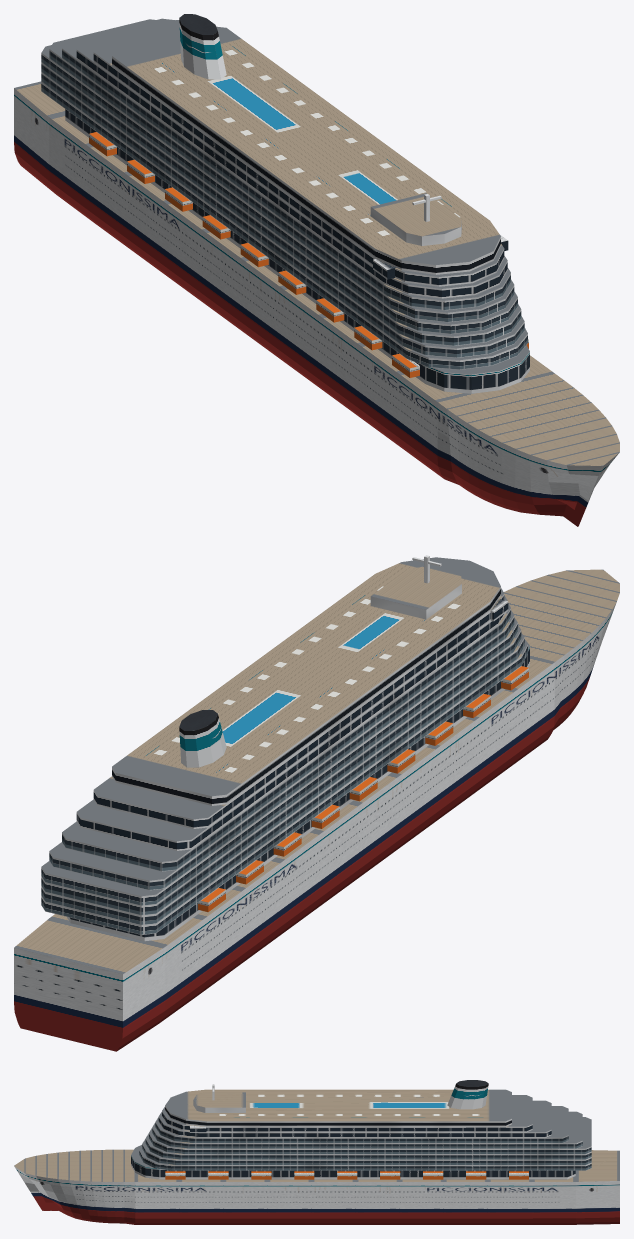
File: SM_MoloItalia_NaveCrociera_v2_LOD1.fbx
The picture shows the model from 3 angles, top to bottom: view 1: azimuth 30°, elevation 25°; view 2: azimuth 150°, elevation 25°; view 3: azimuth 270°, elevation 25°; orthographic projection. The views are drawn at different scales.
Visible parts, largest first — view 1: SM_MoloItalia_NaveCrociera_v2_LOD1; view 2: SM_MoloItalia_NaveCrociera_v2_LOD1; view 3: SM_MoloItalia_NaveCrociera_v2_LOD1.
Boxes of the visible parts, x1,y1,x2,y2 form: SM_MoloItalia_NaveCrociera_v2_LOD1: (14, 14, 619, 526); SM_MoloItalia_NaveCrociera_v2_LOD1: (14, 555, 619, 1051); SM_MoloItalia_NaveCrociera_v2_LOD1: (14, 1080, 619, 1224).
Bounding box in the file's own units: 3920 × 30000 × 6950.
1 material, 1 textured.
